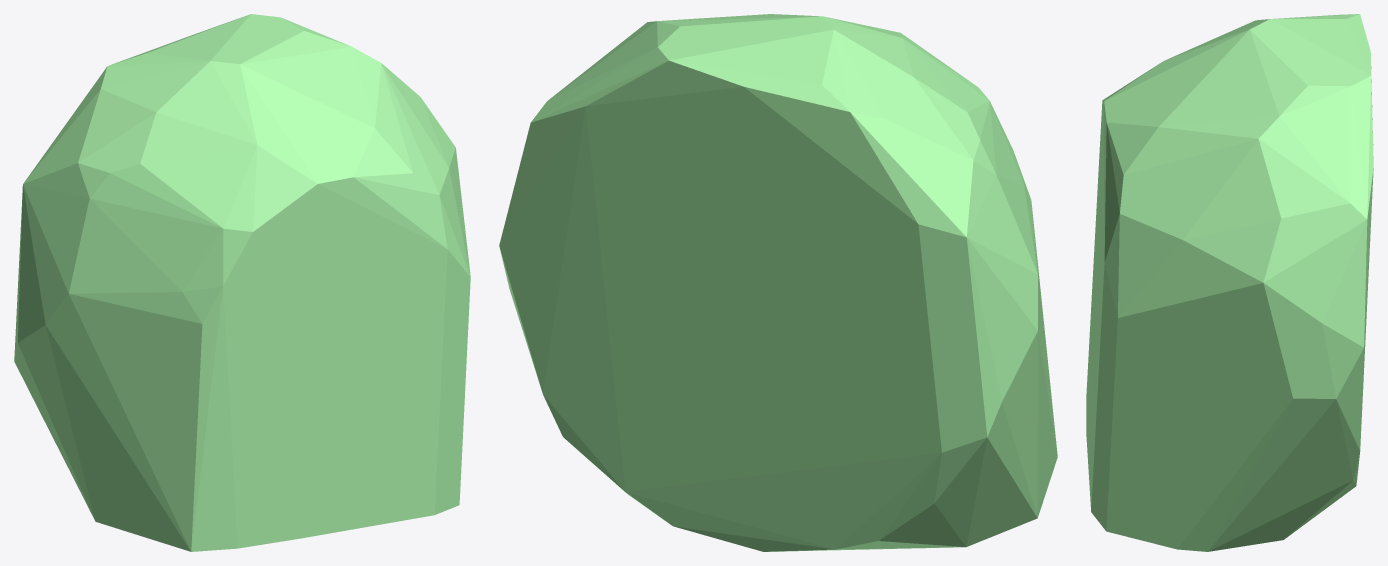
File: dvkr_robot_L_link5_respondable_coll_1.dae
3 renders of one model, left to right at view 1: azimuth 30°, elevation 25°; view 2: azimuth 150°, elevation 25°; view 3: azimuth 270°, elevation 25°, orthographic. The views are drawn at different scales.
Parts seen in each view (by area): view 1: Node_0000023514CD64F0; view 2: Node_0000023514CD64F0; view 3: Node_0000023514CD64F0.
Part boxes in pixels (<box>): Node_0000023514CD64F0: <box>14,14,470,551</box>; Node_0000023514CD64F0: <box>499,14,1057,551</box>; Node_0000023514CD64F0: <box>1086,14,1373,551</box>.
Bounding box in the file's own units: 0.1055 × 0.105 × 0.0625.
